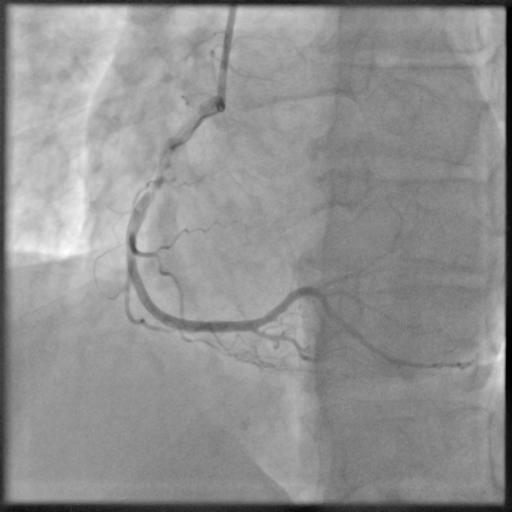Stenosis: (149, 161, 167, 193)
